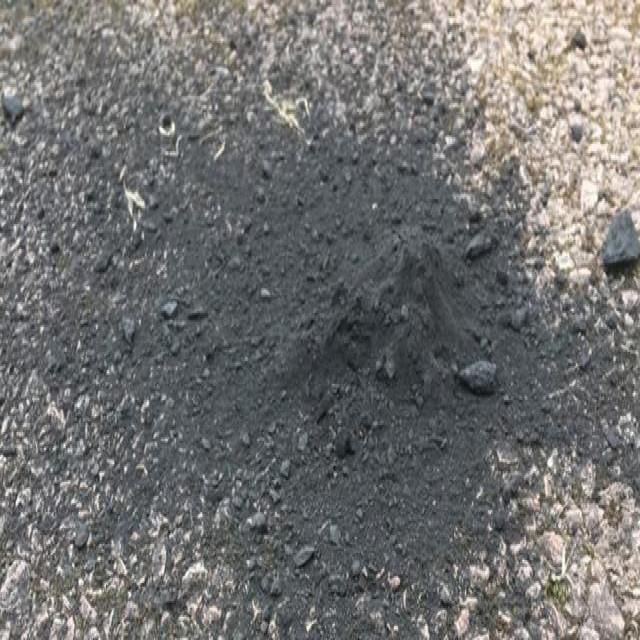Pecahan Agregat: (87, 73, 640, 607)
